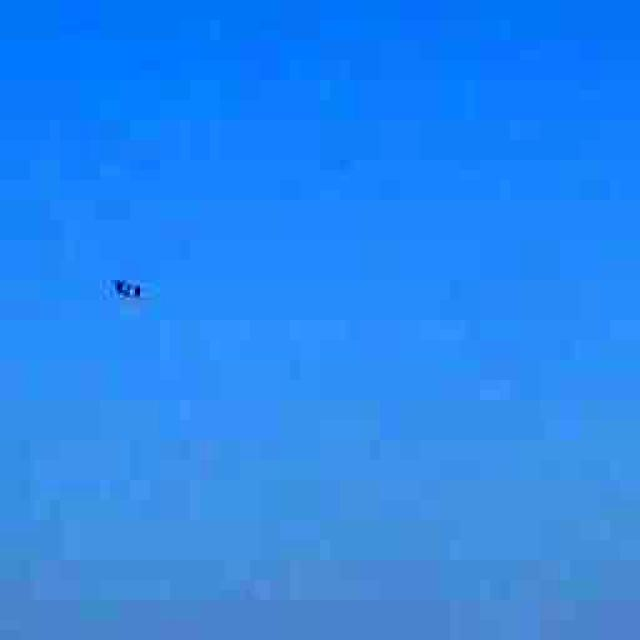bird: (100, 256, 155, 319)
